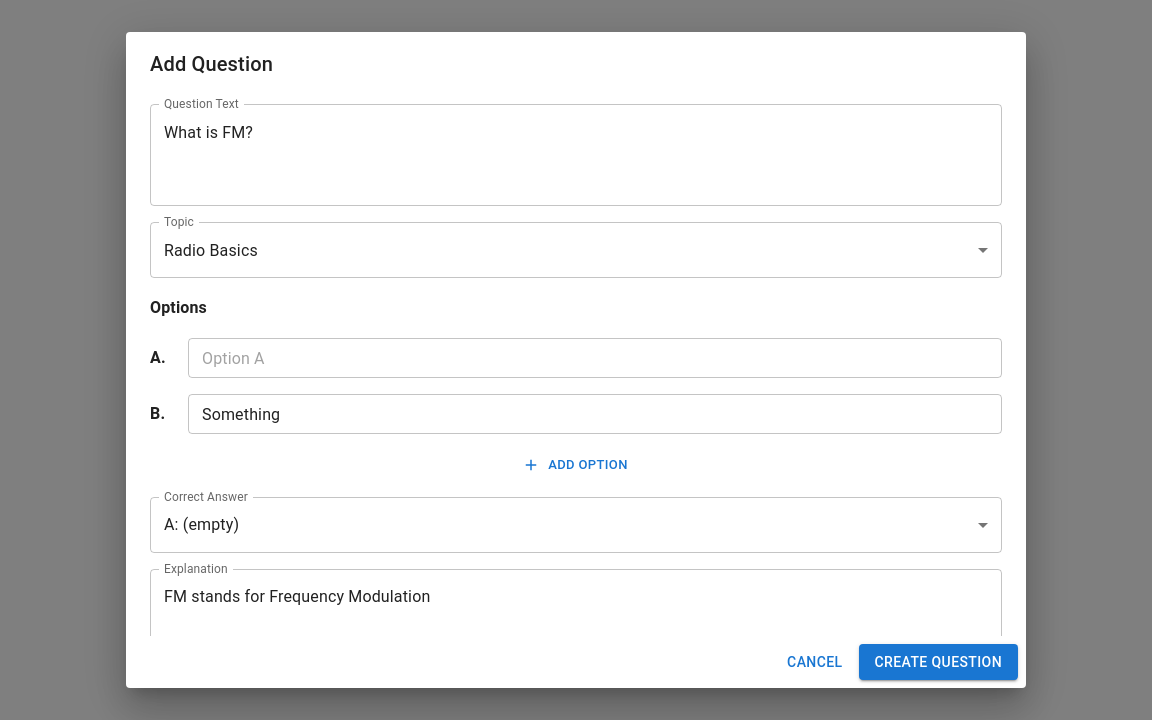
Test case: QuestionFormDialog › renders options with (empty) for empty text
# Open the select dropdown to verify option B is rendered
Press the mouse on the dropdown "A: (empty)" at [202, 525], box top-left (164, 515), bottom-right (239, 534)
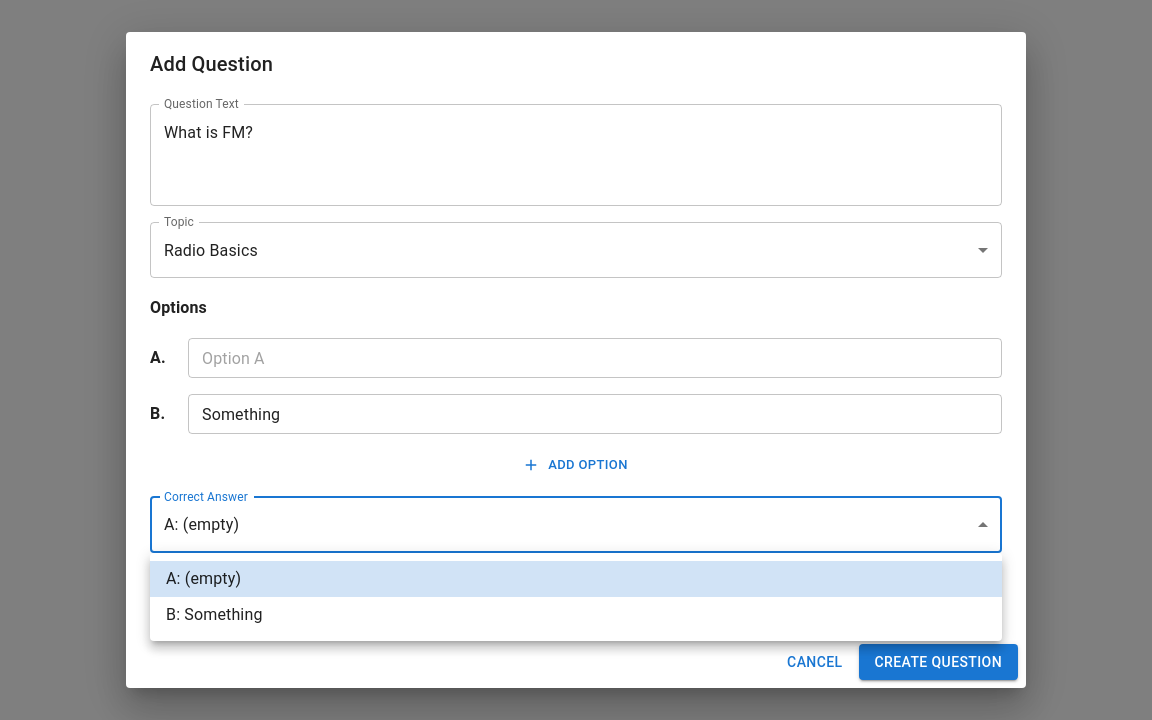
Expected: the option "B: Something" is shown, top-left (166, 605), bottom-right (262, 624)
